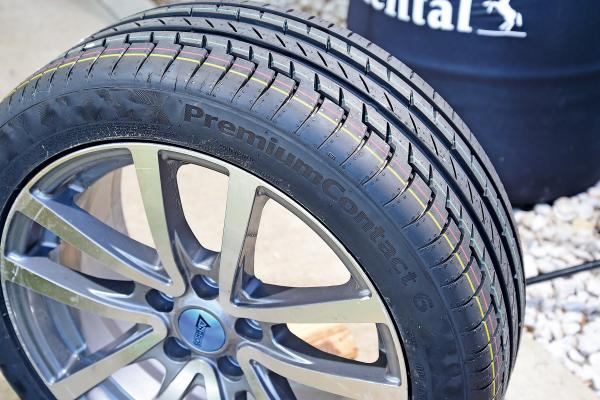tire: (1, 4, 530, 400)
